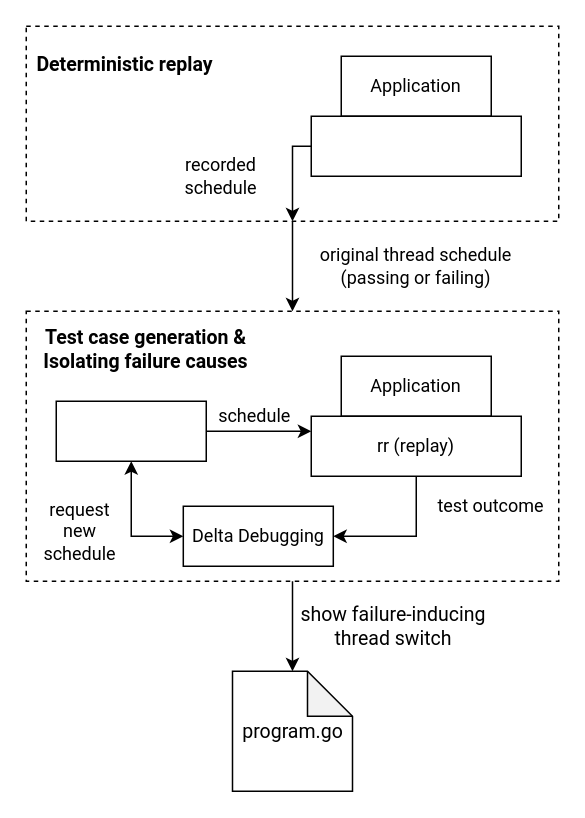
This 585x818 diagram has some shape labels left out. The box of each missing label's shape, as (x1, y1, x2, y2) in pixels:
rr (record): (310, 115, 521, 176)
Schedule generator: (55, 400, 206, 461)
